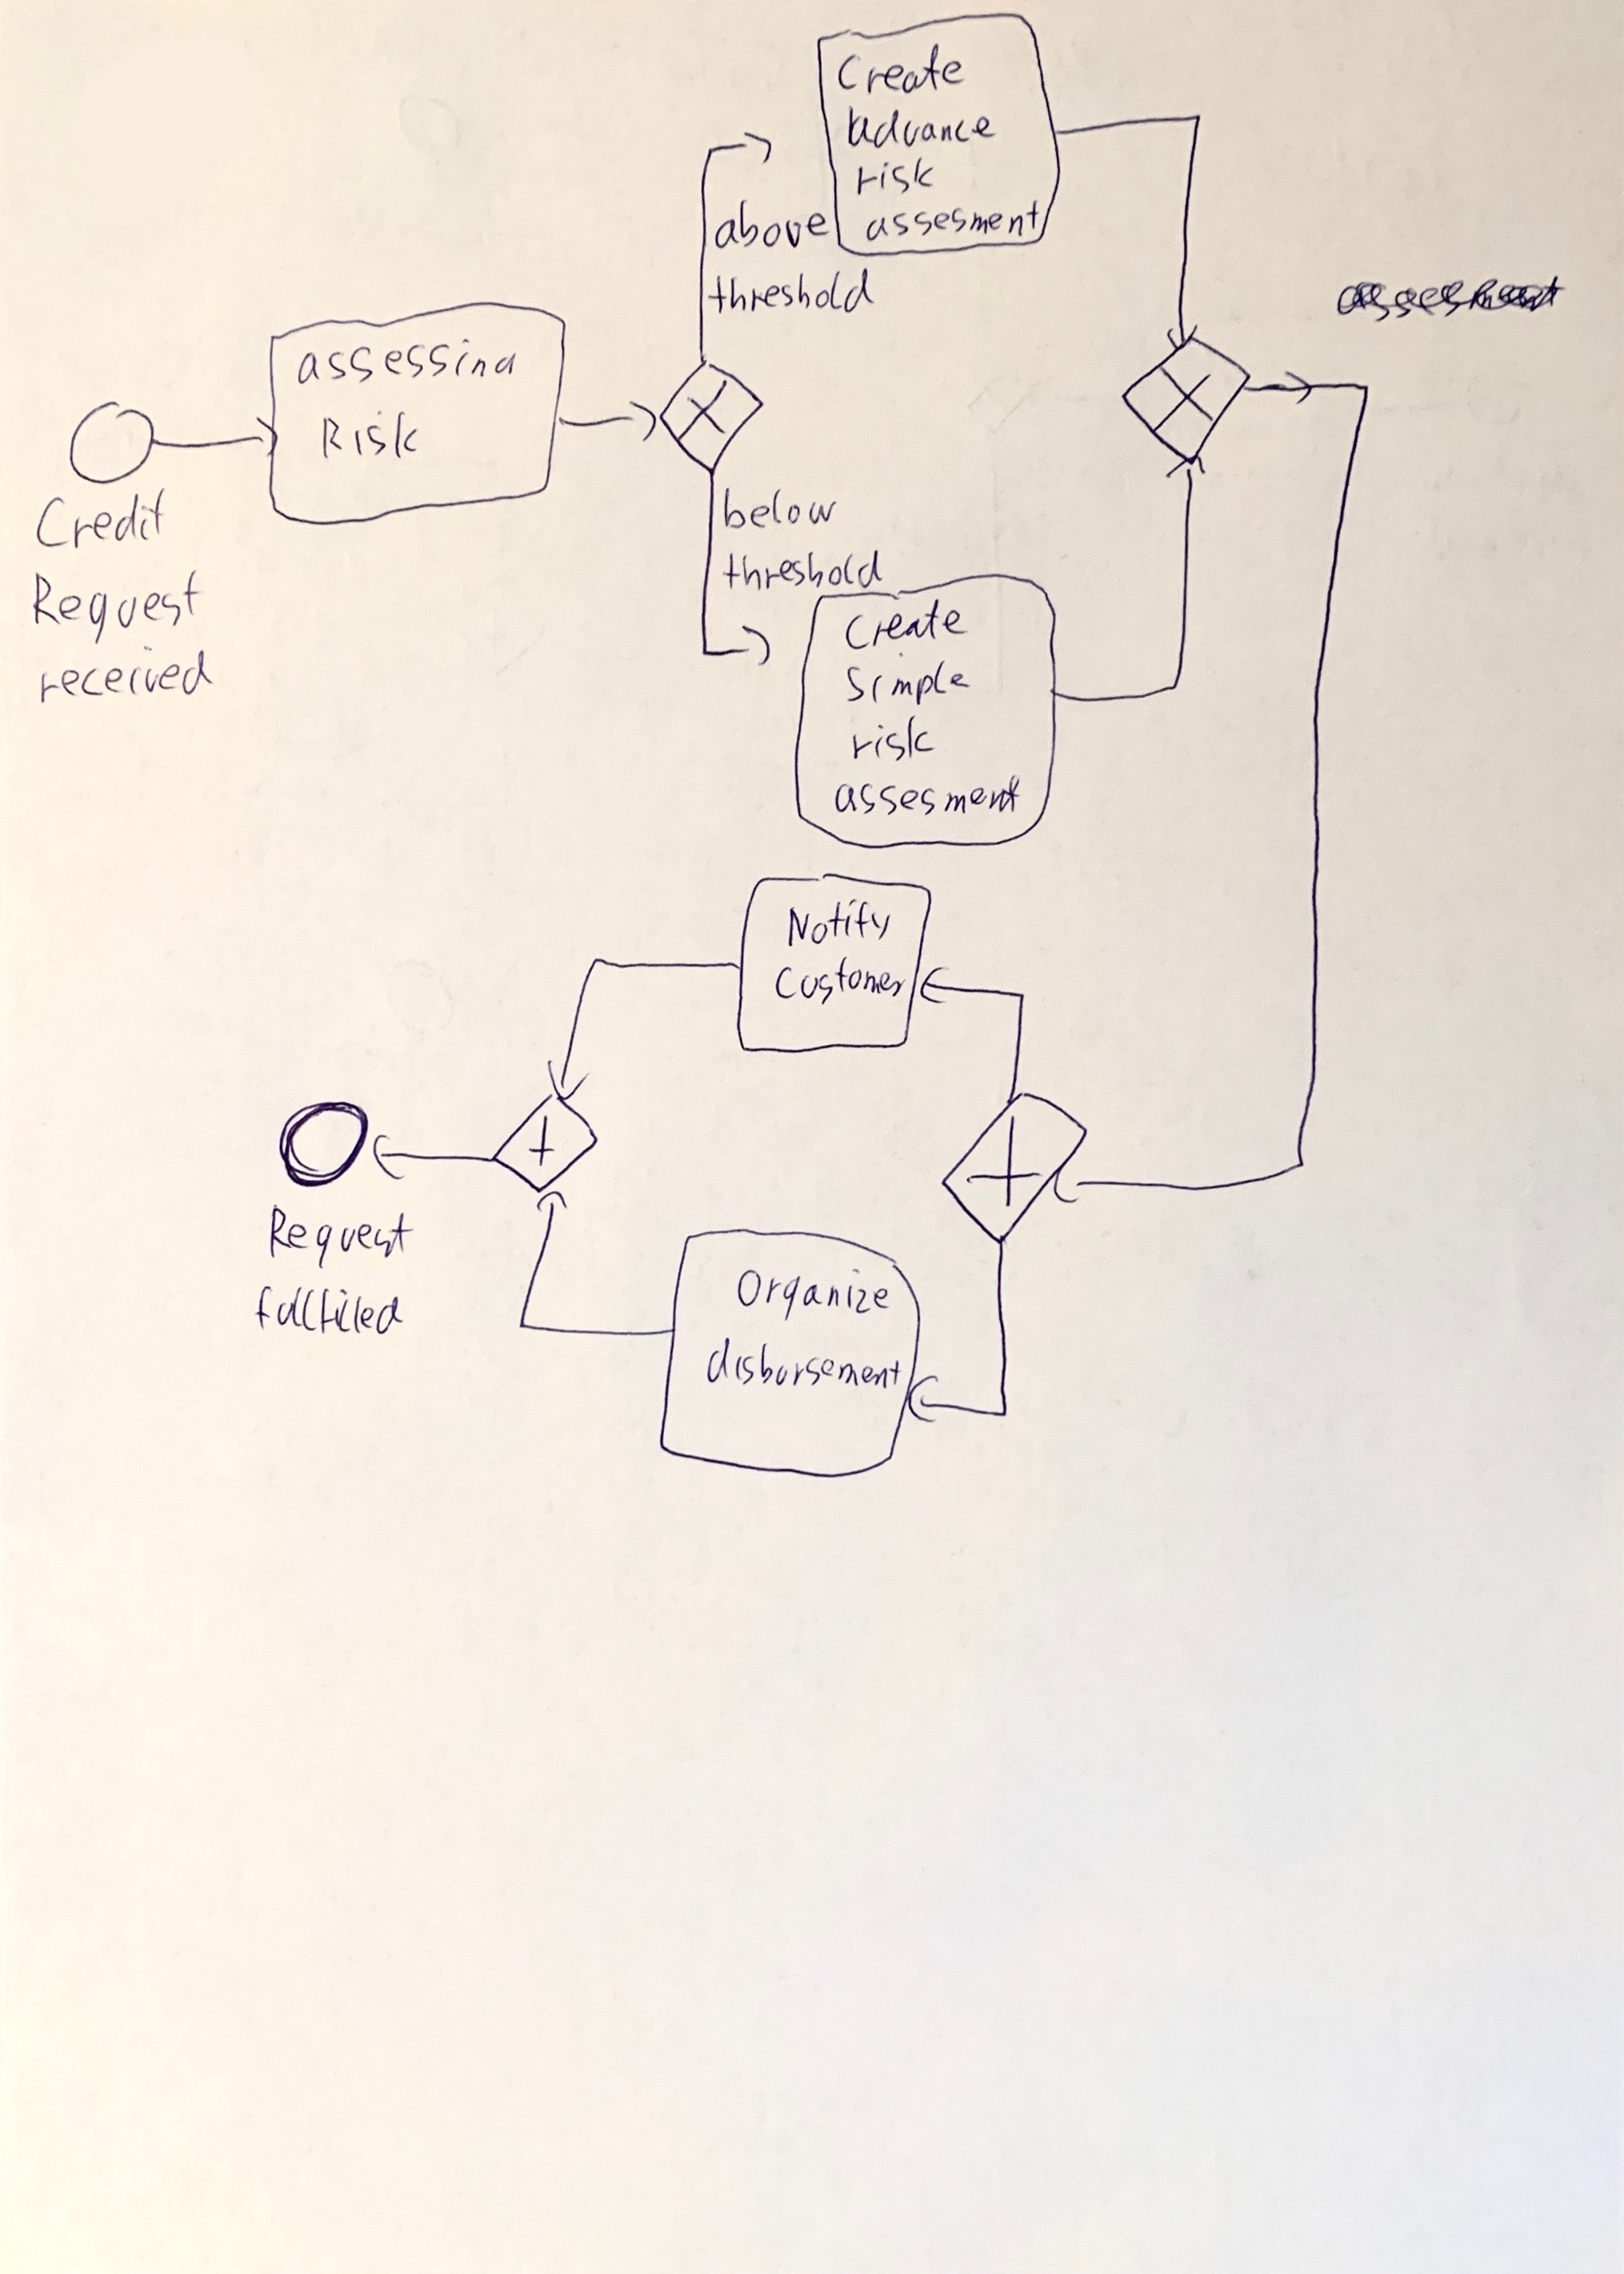Create: (833, 42, 970, 98)
Credit: (33, 485, 167, 552)
Notify: (784, 896, 893, 951)
Organize: (735, 1267, 891, 1325)
Request: (28, 566, 204, 647), (267, 1202, 417, 1272)
Risk: (318, 408, 422, 464)
above: (712, 199, 833, 253)
advance: (845, 105, 998, 151)
assesment: (831, 773, 1023, 819), (863, 197, 1042, 244)
assessina: (294, 336, 520, 387)
below: (719, 485, 840, 534)
create: (840, 597, 972, 654)
customer: (772, 952, 910, 1007)
disbursement: (701, 1334, 905, 1394)
fullfilled: (250, 1285, 410, 1337)
received: (37, 643, 216, 708)
risk: (849, 713, 939, 766), (854, 155, 935, 199)
simple: (844, 648, 972, 708)
threshold: (703, 269, 881, 318), (719, 548, 886, 594)
